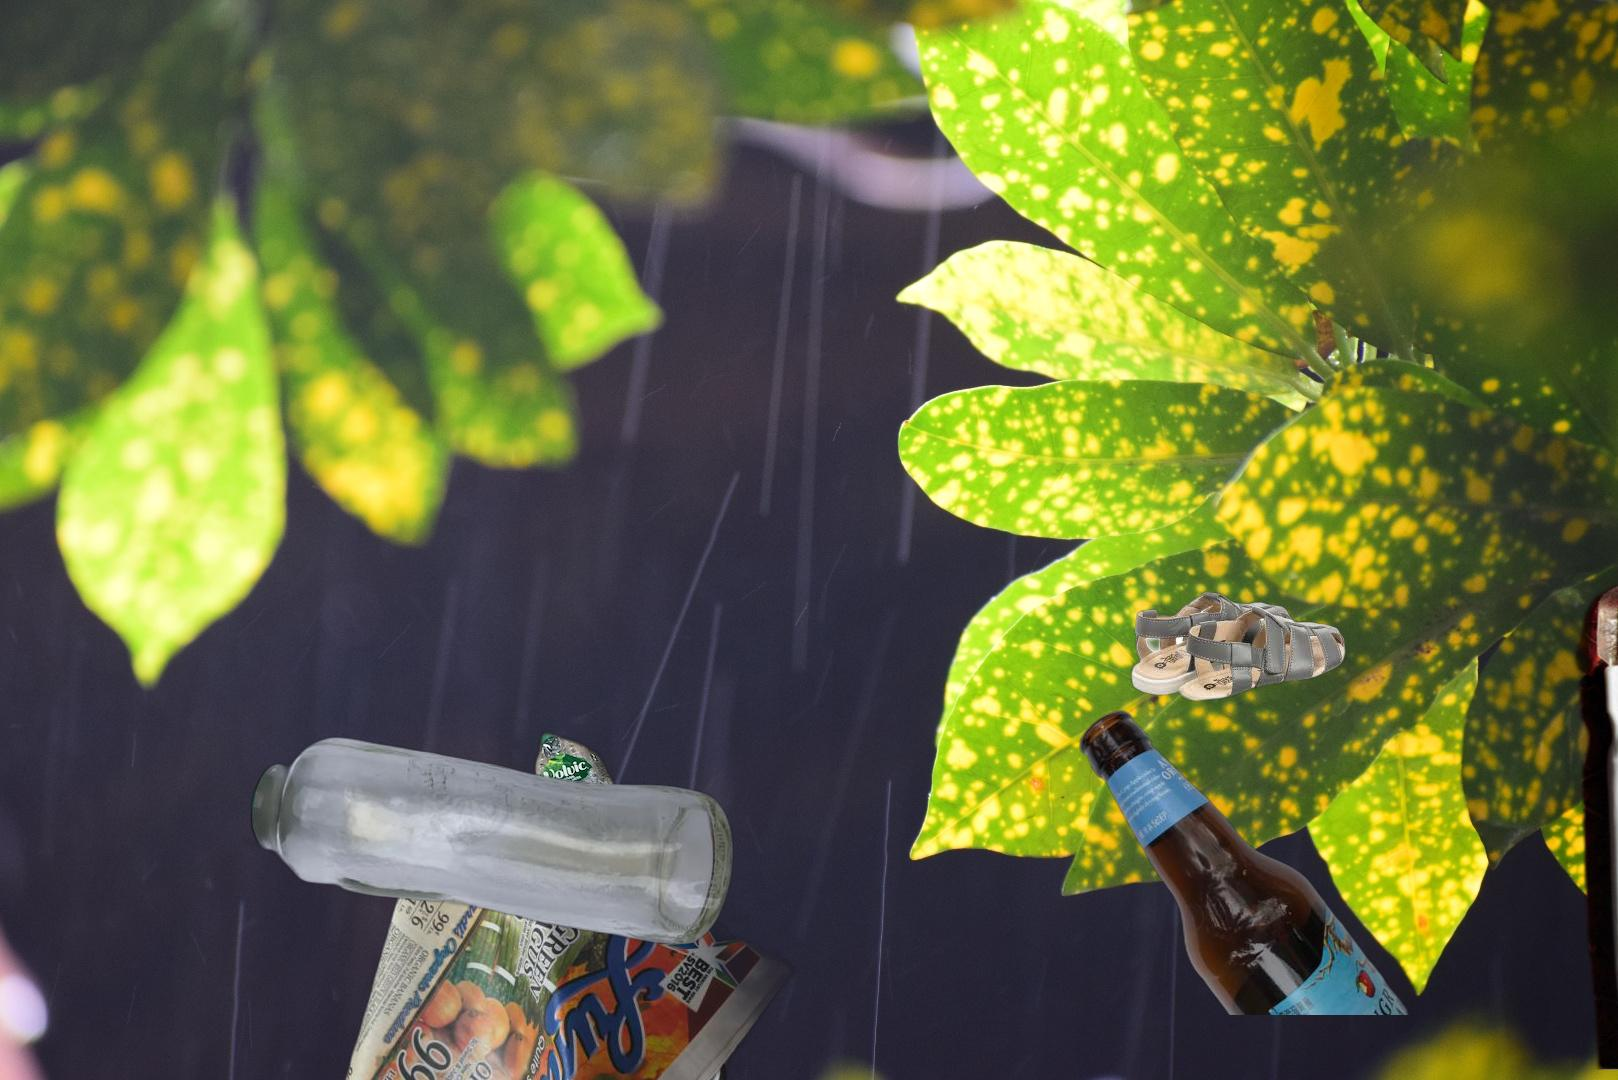clothes: (1584, 1059, 1618, 1080)
glass: (242, 733, 738, 949), (1075, 707, 1413, 1015)
paper: (324, 822, 836, 1080)
penholder: (1568, 578, 1618, 1070)
plastic-bottles: (530, 726, 647, 898)
shoes: (1128, 589, 1348, 705)
